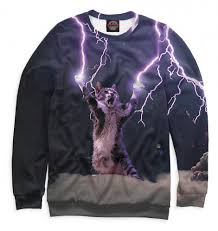cat: (73, 73, 147, 178)
